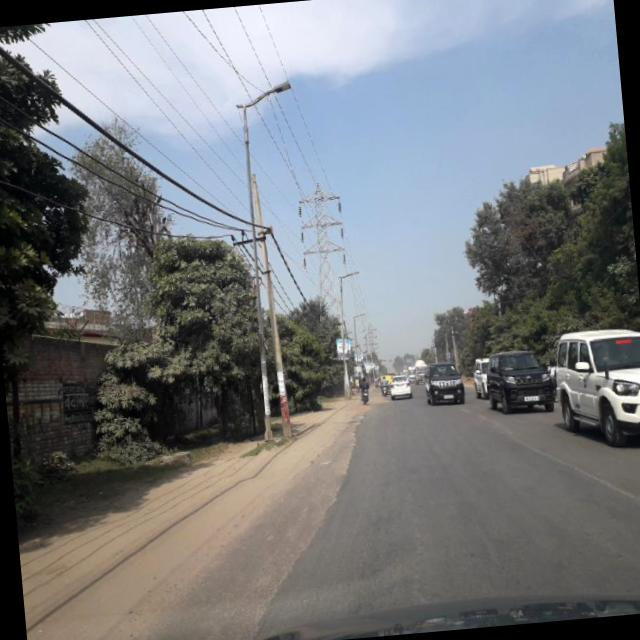pothole: (240, 528, 327, 640), (308, 417, 370, 522), (555, 451, 640, 507), (486, 414, 554, 464)
